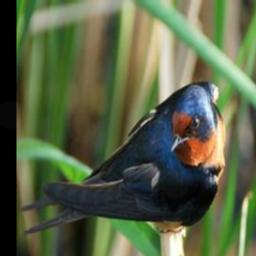Swallow: (19, 76, 227, 237)
